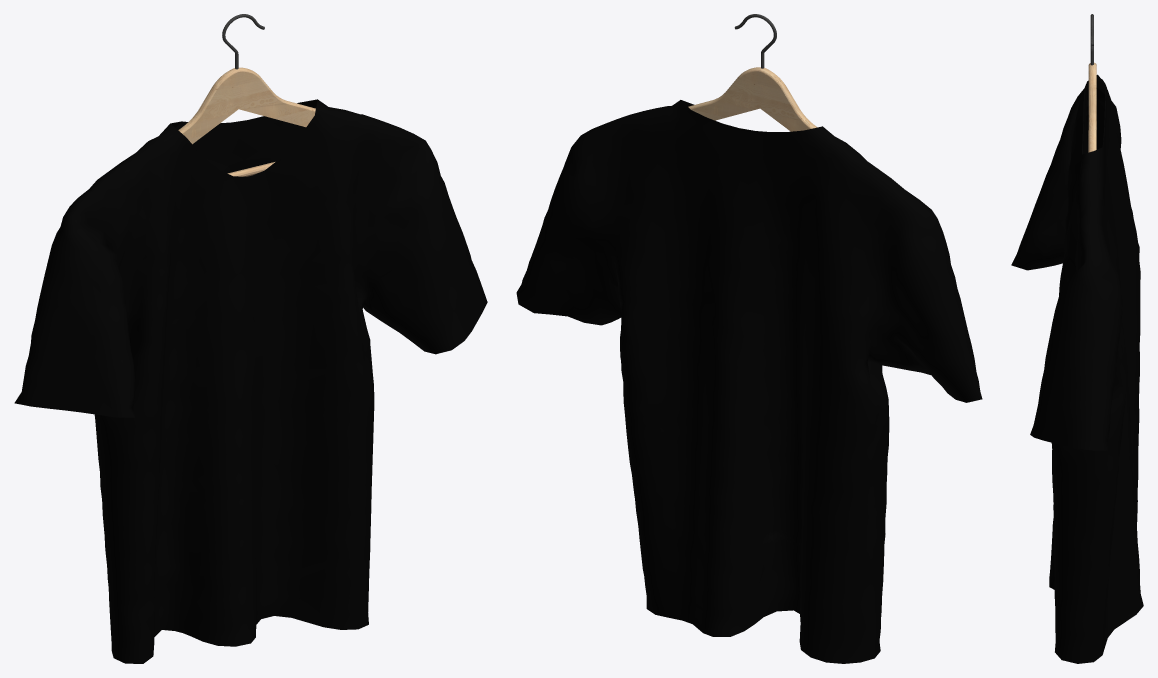
The model's file is shirt 1.FBX.
The picture shows the model from 3 angles, left to right: view 1: azimuth 30°, elevation 25°; view 2: azimuth 150°, elevation 25°; view 3: azimuth 270°, elevation 25°; orthographic projection. The views are drawn at different scales.
Visible parts, largest first — view 1: Shirt 1, hanger; view 2: Shirt 1, hanger; view 3: Shirt 1, hanger.
Boxes of the visible parts, left/top/right/bottom form: Shirt 1: left=14, top=99, right=487, bottom=663; hanger: left=178, top=14, right=315, bottom=176; Shirt 1: left=516, top=100, right=982, bottom=663; hanger: left=688, top=14, right=817, bottom=131; Shirt 1: left=1011, top=74, right=1143, bottom=663; hanger: left=1088, top=14, right=1096, bottom=152.
Size of the model in its own units: 59.5 by 75.88 by 15.36.
3 materials, 2 textured.
